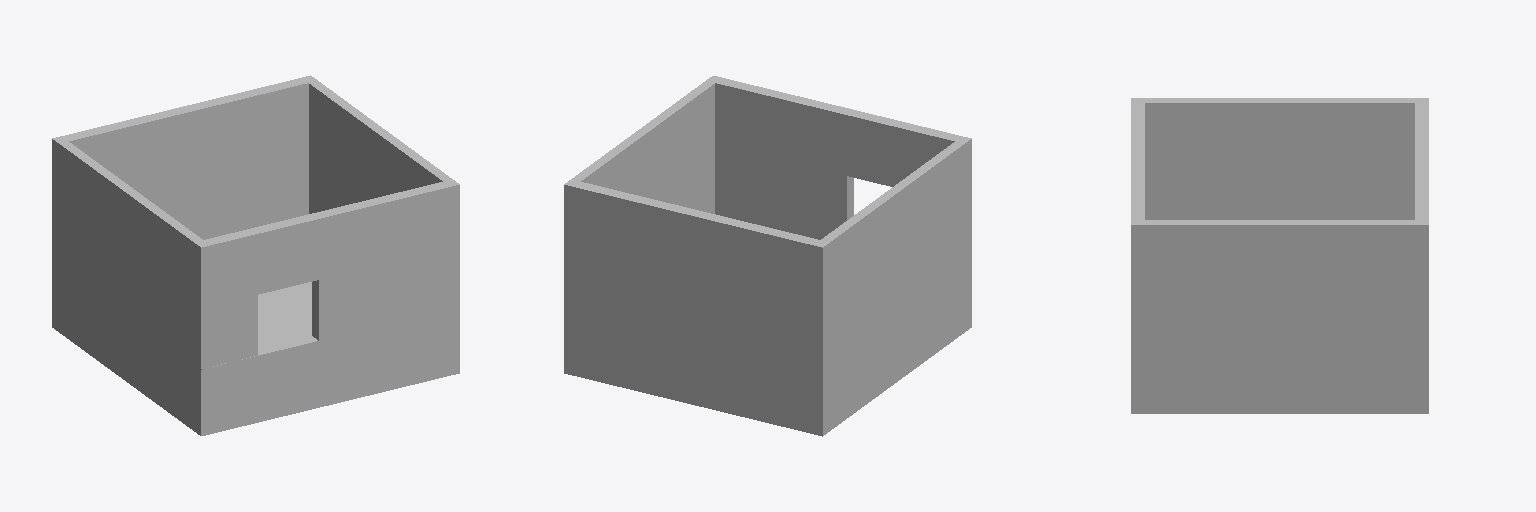
File: room.obj
3 views of the same model, side by side, from view 1: azimuth 30°, elevation 25°; view 2: azimuth 150°, elevation 25°; view 3: azimuth 270°, elevation 25° (orthographic).
Parts seen in each view (by area): view 1: pCube1; view 2: pCube1; view 3: pCube1.
Boxes of the visible parts, <box> form: pCube1: <box>52,75,459,435</box>; pCube1: <box>564,76,971,436</box>; pCube1: <box>1131,98,1428,413</box>.
Bounding box in the file's own units: 17.83 × 12.42 × 17.78.